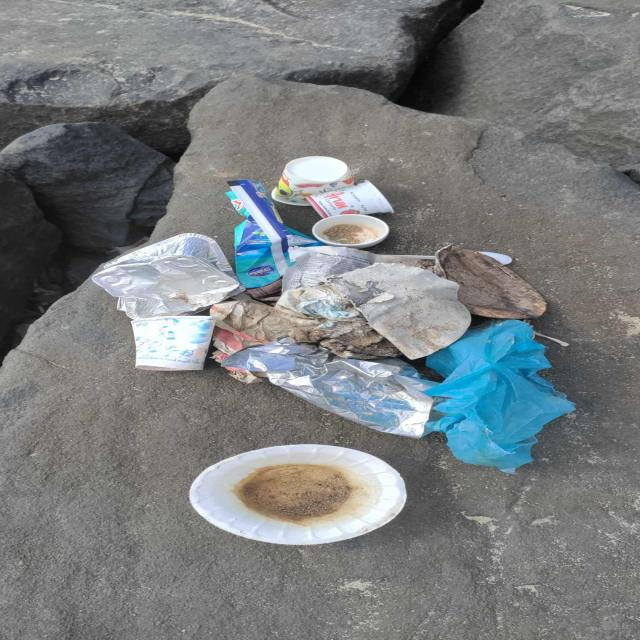biowaste: (435, 244, 546, 319)
metal: (220, 338, 438, 438), (87, 233, 242, 319)
paper: (331, 263, 470, 359), (209, 300, 399, 360), (282, 245, 433, 290), (129, 316, 213, 371), (271, 156, 354, 206)
plastic: (425, 319, 575, 473), (306, 181, 392, 217), (311, 214, 388, 248)
styrofoam: (188, 445, 406, 546)
wrapper: (223, 179, 320, 295)
